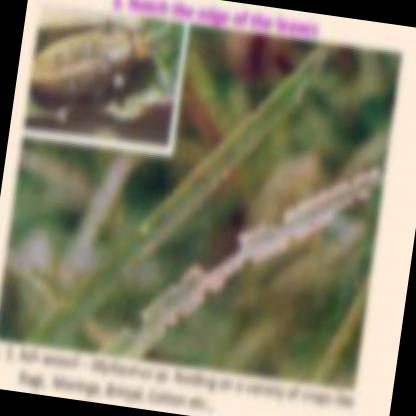ash weevil: (33, 28, 147, 102)
